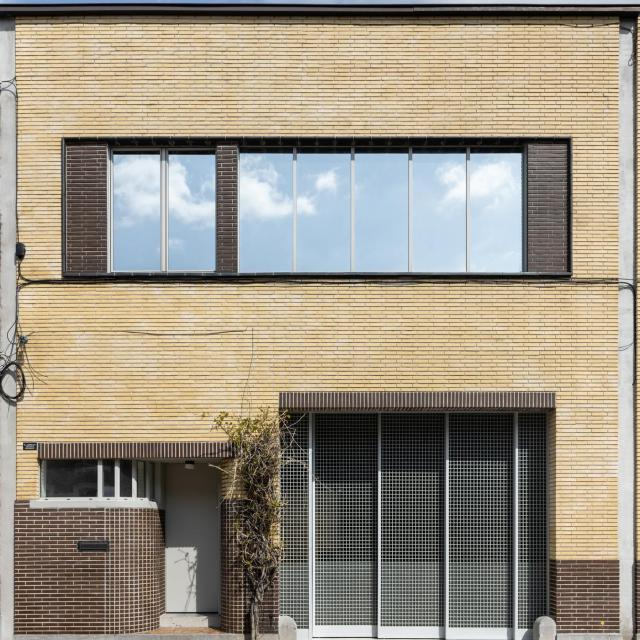door: (278, 408, 542, 633)
plant: (212, 408, 292, 640)
wall: (0, 1, 637, 639)
windows: (238, 146, 525, 273), (110, 141, 216, 276)
